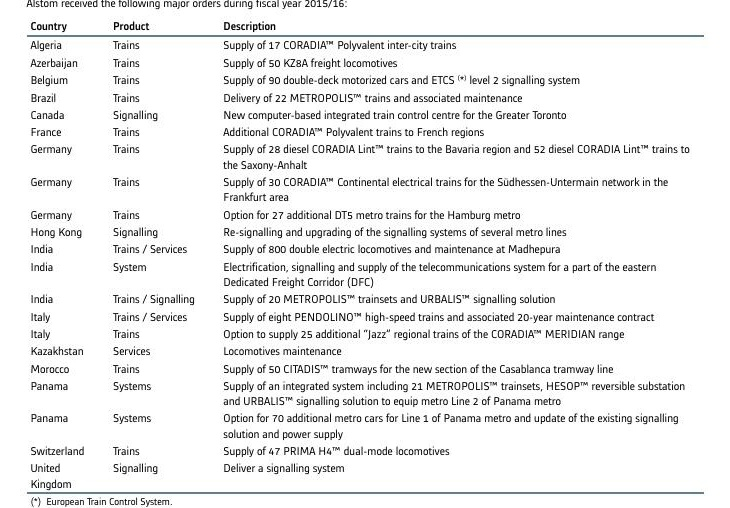table: (0, 0, 730, 508)
